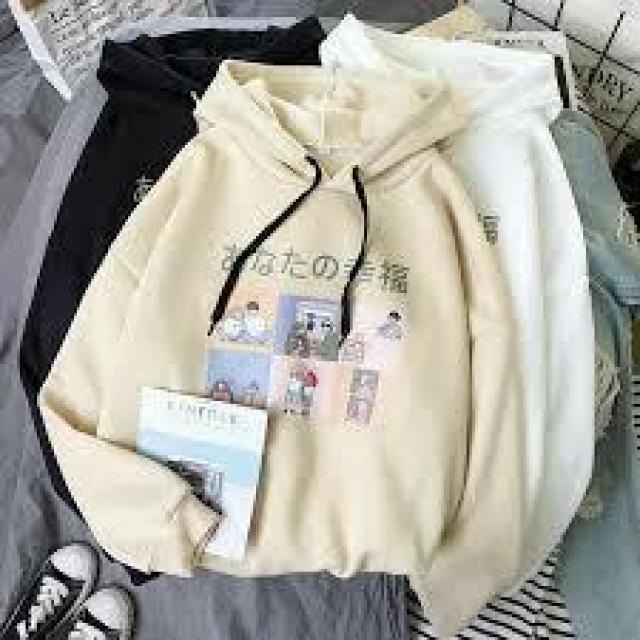sweater: (43, 64, 526, 576)
